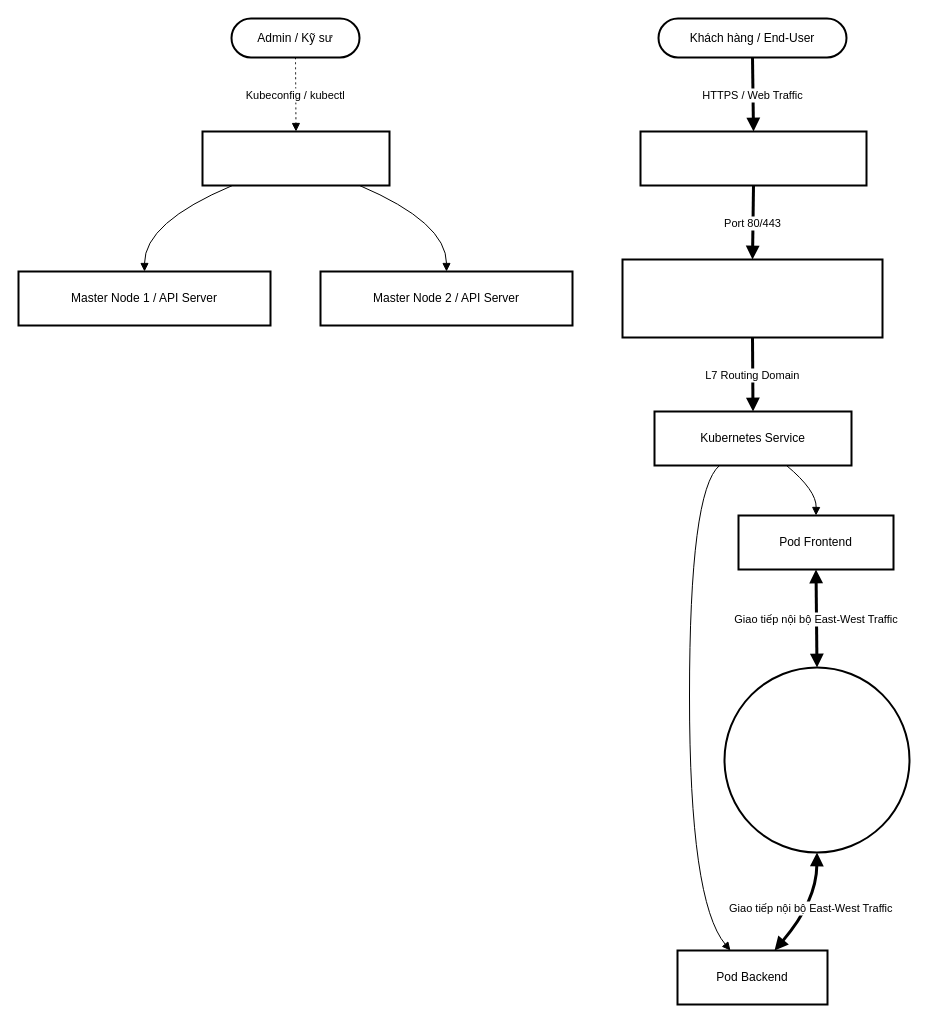
Image size: 927x1022. Some labels were removed from this diagram. Each missing label, with the box of its shape:
Cilium Overlay Network: (723, 666, 910, 853)
External Load Balancer: (639, 130, 867, 186)
Ingress Controller chạy trên Worker Node: (621, 258, 883, 338)
kube-vip VIP 6443: (201, 130, 390, 186)
